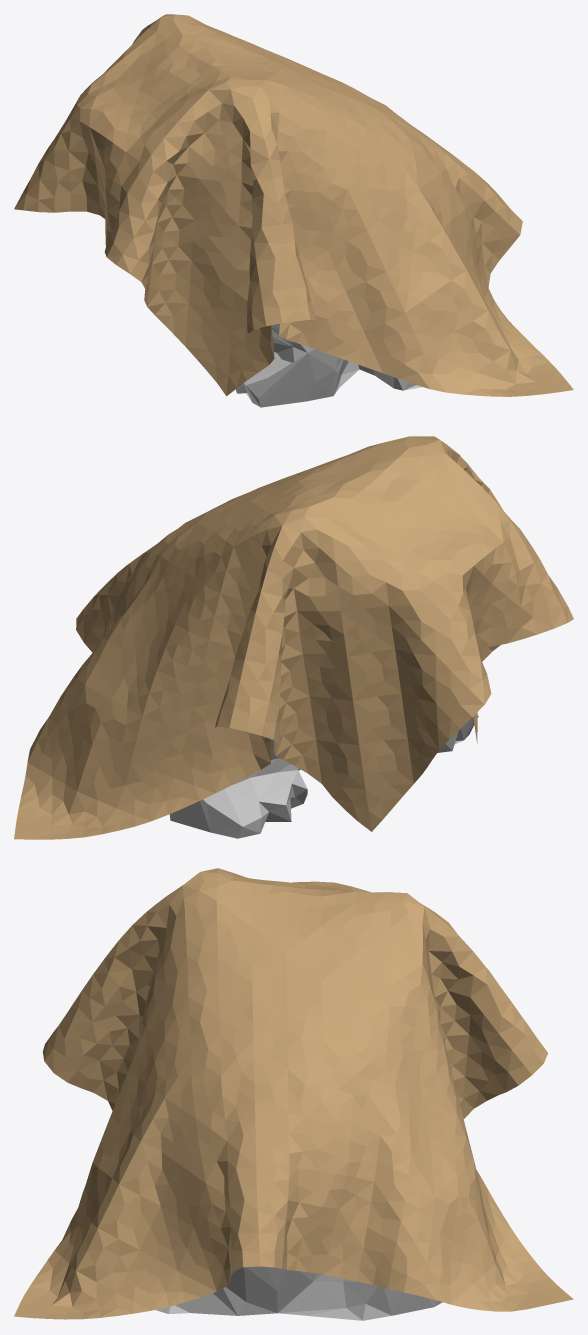
Rendered from level_1.glb.
3 renders of one model, top to bottom at view 1: azimuth 30°, elevation 25°; view 2: azimuth 150°, elevation 25°; view 3: azimuth 270°, elevation 25°, orthographic. The views are drawn at different scales.
Parts seen in each view (by area): view 1: world, object.obj; view 2: world, object.obj; view 3: world, object.obj.
Part boxes in pixels (x1,y1,x2,y2): world: [14, 14, 573, 396]; object.obj: [236, 324, 421, 407]; world: [14, 436, 573, 839]; object.obj: [169, 714, 478, 838]; world: [14, 868, 573, 1319]; object.obj: [156, 1266, 442, 1320].
Bounding box in the file's own units: 0.4587 × 0.2963 × 0.4781.
